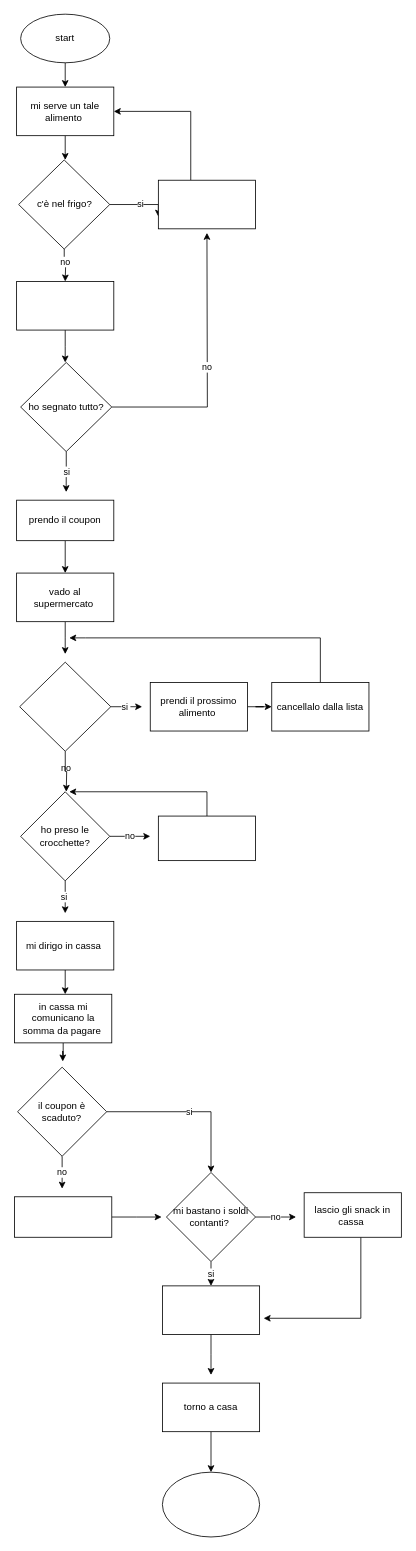
Image size: 416x1551. Some labels were removed from this diagram. Each missing label, with the centre of its shape:
aggiungiamo l'alimento alla lista della spesa: the point at 65,305
end: the point at 211,1504
pago: the point at 211,1309
prendo le crocchette: the point at 207,838
prossimo alimento: the point at 207,204
rimane qualcosa nella lista?: the point at 65,706
uso il coupon e lo scalo dal totale: the point at 63,1216
